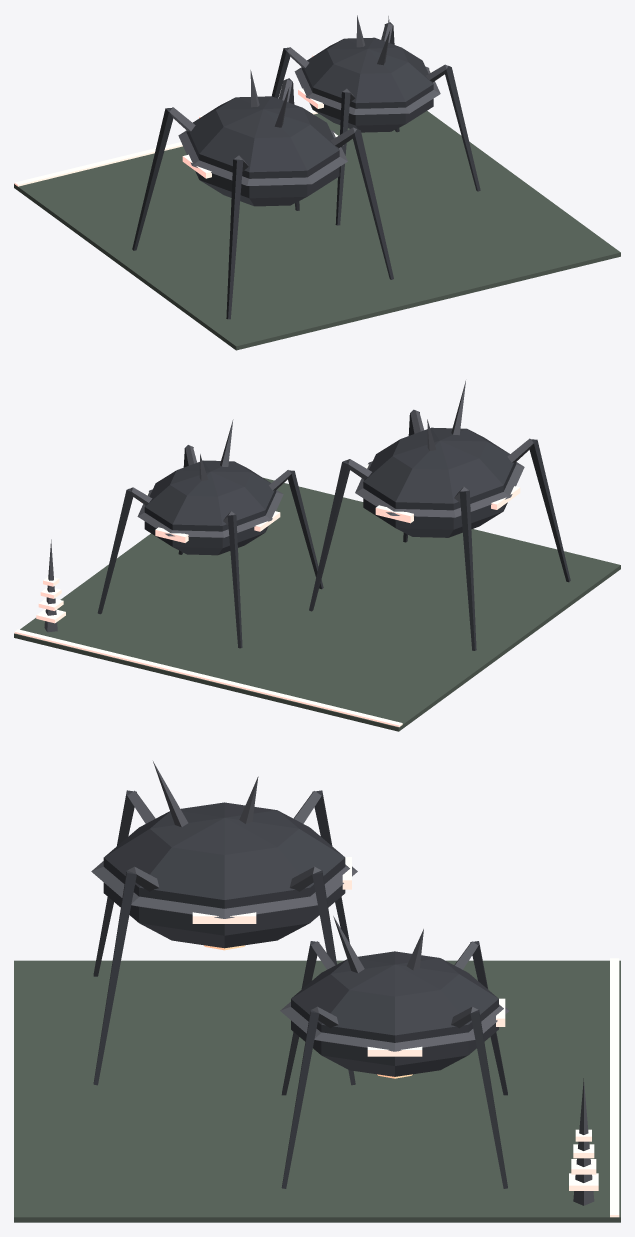
The model's file is zone_low_5_t4.glb.
3 renders of one model, top to bottom at view 1: azimuth 30°, elevation 25°; view 2: azimuth 150°, elevation 25°; view 3: azimuth 270°, elevation 25°, orthographic. The views are drawn at different scales.
Parts seen in each view (by area): view 1: zone_low_5_t4, detail; view 2: zone_low_5_t4, detail; view 3: zone_low_5_t4, detail.
Boxes of the visible parts, <box> form: zone_low_5_t4: <box>14,22,620,350</box>; detail: <box>14,15,432,186</box>; zone_low_5_t4: <box>14,409,620,731</box>; detail: <box>14,381,520,727</box>; zone_low_5_t4: <box>14,790,620,1222</box>; detail: <box>153,761,619,1217</box>.
Size of the model in its own units: 19.6 by 9.81 by 19.6.
